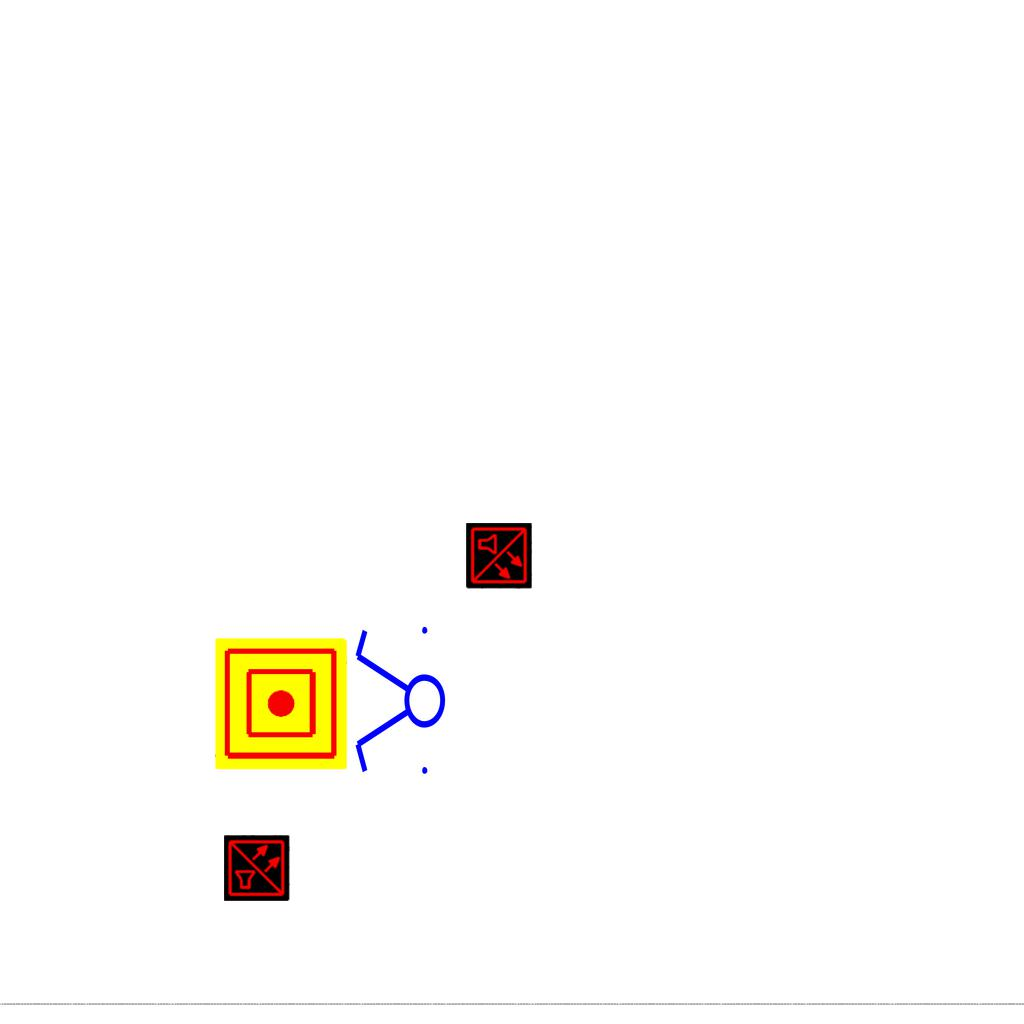NAM-Nichtautomatischer_Melder: (215, 638, 347, 770)
OKW_Multisensormelder_(Kombination_optischer_Rauch-Kahlenmonoxid_Waerme-Melder): (466, 523, 532, 589), (224, 835, 290, 901)
Serienschalter: (351, 618, 447, 786)
